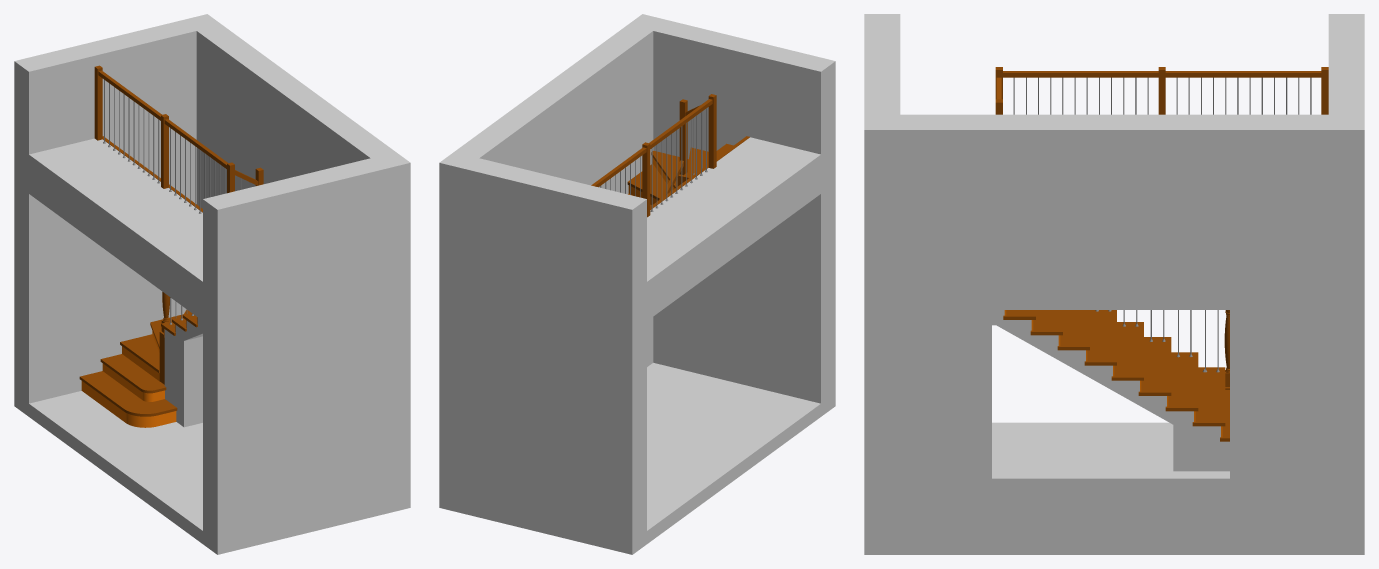
File: Лестница на бетонном основании.obj
The picture shows the model from 3 angles, left to right: view 1: azimuth 30°, elevation 25°; view 2: azimuth 150°, elevation 25°; view 3: azimuth 270°, elevation 25°; orthographic projection. The views are drawn at different scales.
Bounding box in the file's own units: 3.05 × 5.2 × 5.55.
